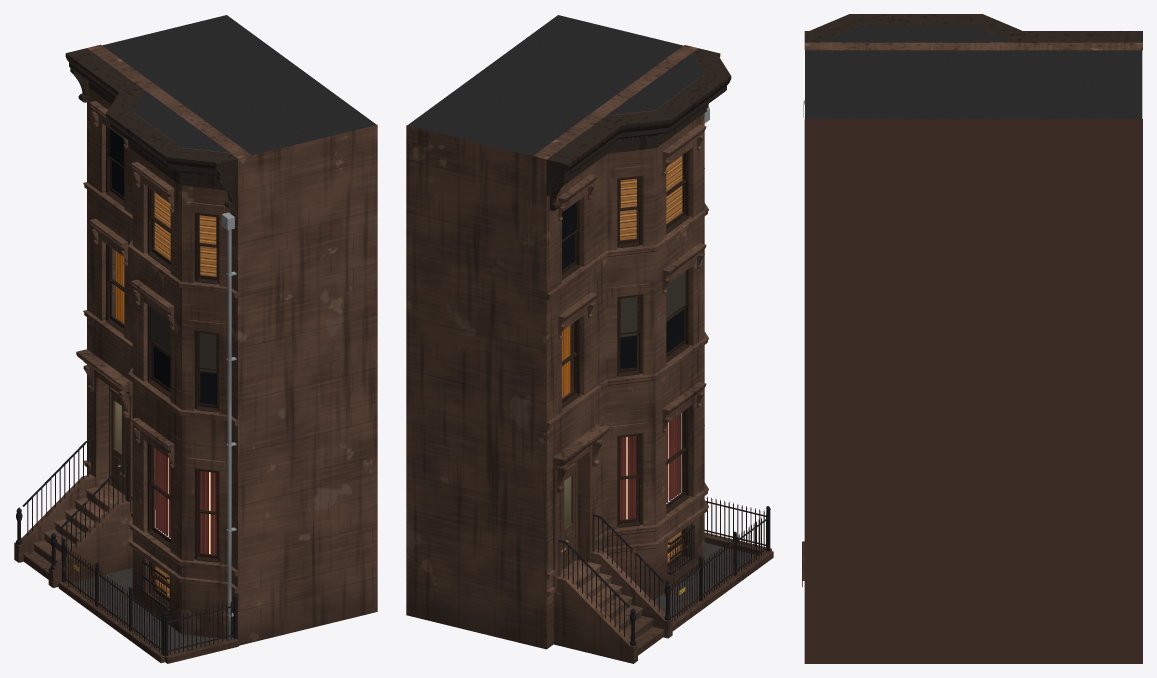
The model's file is SM_Facade_Brownstone.glb.
3 renders of one model, left to right at view 1: azimuth 30°, elevation 25°; view 2: azimuth 150°, elevation 25°; view 3: azimuth 270°, elevation 25°, orthographic. The views are drawn at different scales.
Parts seen in each view (by area): view 1: SM_Facade_Brownstone; view 2: SM_Facade_Brownstone; view 3: SM_Facade_Brownstone.
Boxes of the visible parts, x1=… form: SM_Facade_Brownstone: x1=14, y1=15, x2=377, y2=663; SM_Facade_Brownstone: x1=406, y1=15, x2=773, y2=663; SM_Facade_Brownstone: x1=802, y1=14, x2=1142, y2=663.
Size of the model in its own units: 5.65 by 12.03 by 6.8.
5 materials, 5 textured.
